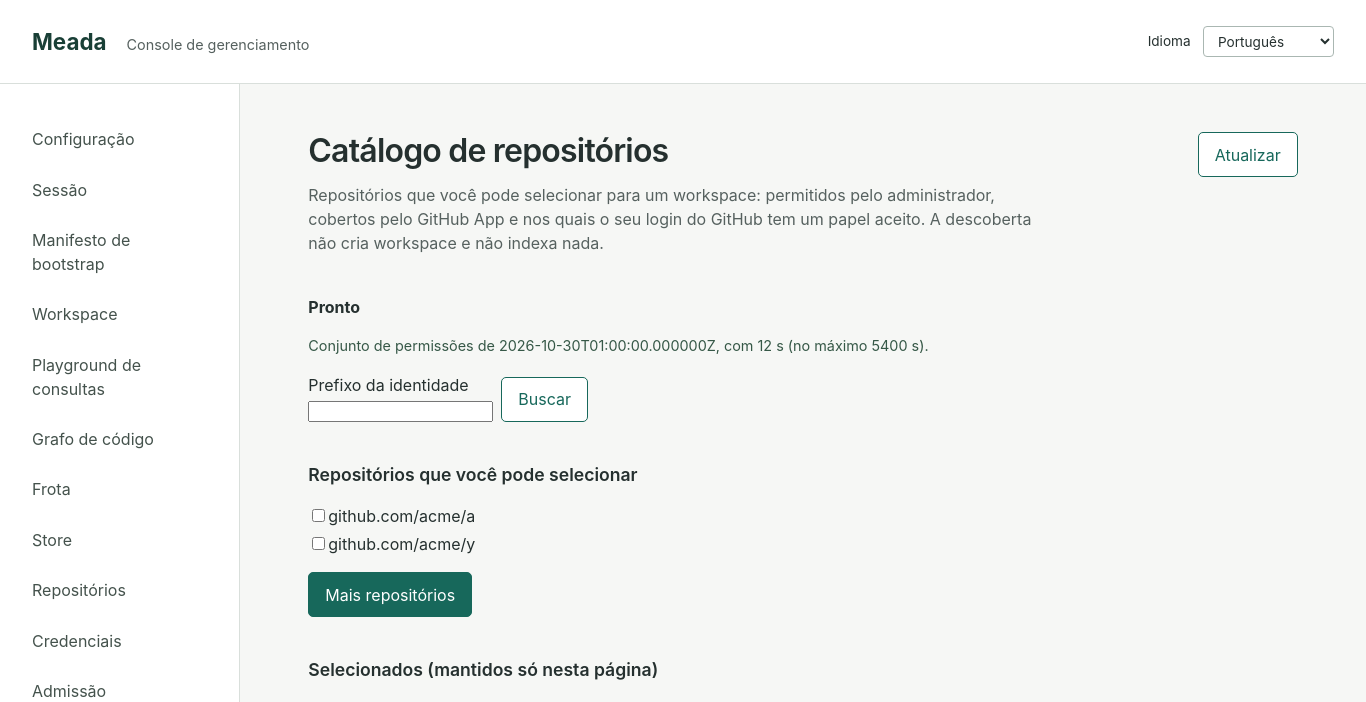
Test: the picker lists what the server lists, pages with the cursor and selects locally in pt-BR
The width and height of the screenshot is (1366, 702).
expect the list named "Repositórios que você pode selecionar" is shown: met, box [312,506,475,554]
expect the number of checkboxes is 2: met, box [312,509,325,522]; [312,537,325,550]
What coordinates should you click on to do the following:
click the button "Mais repositórios"
I would click on:
 (390, 595)
Its box is [308,572,472,617].
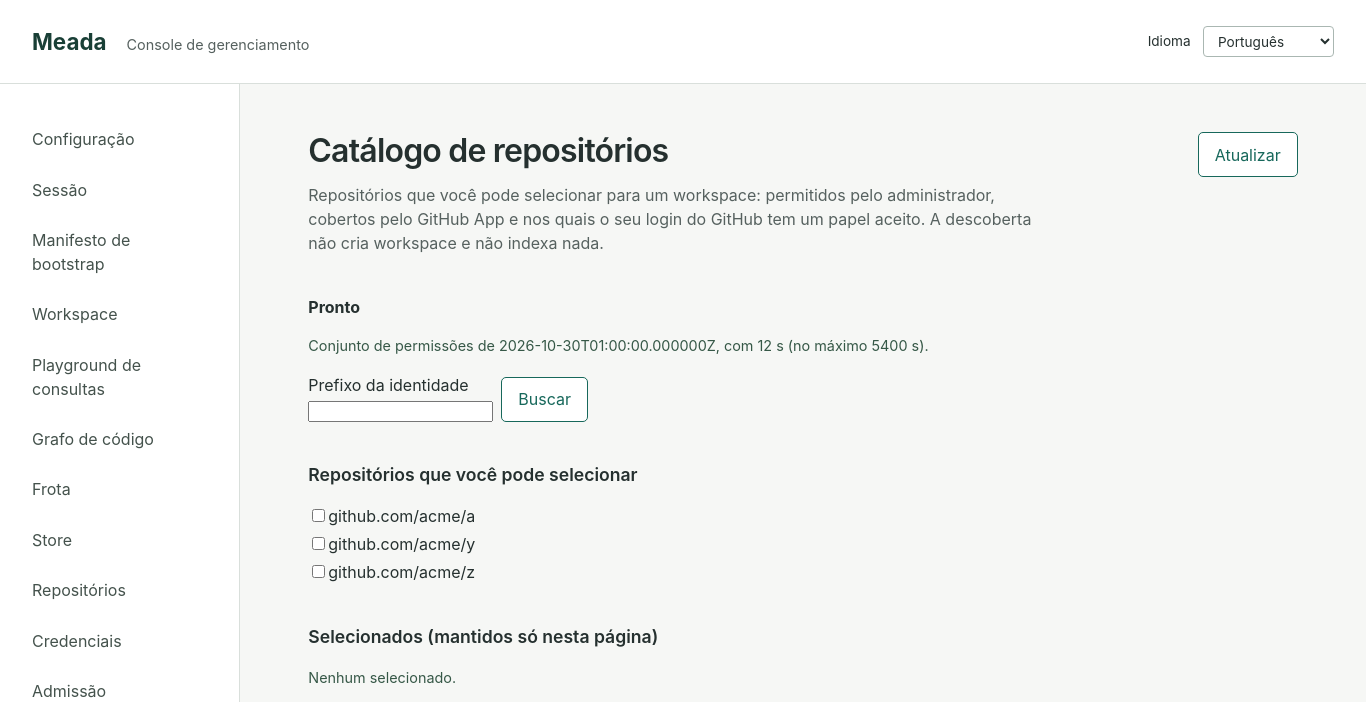
expect the number of checkboxes is 3: met
expect the button "Mais repositórios" is gone: met
What coordinates should you click on to do the following:
click the checkbox labelled "github.com/acme/y"
I would click on:
 (319, 544)
Its box is [312,537,325,550].
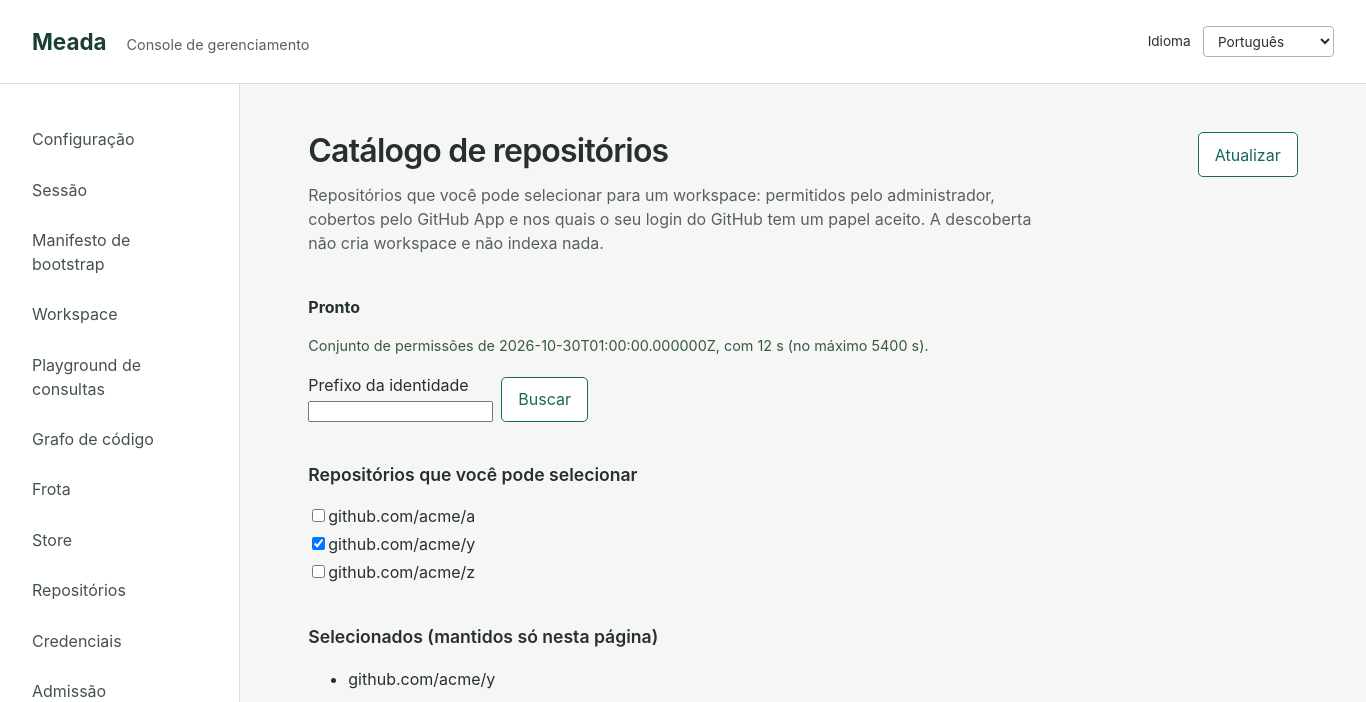
expect the list named "Selecionados (mantidos só nesta página)" reads "github.com/acme/y": met, box [348,669,495,689]
